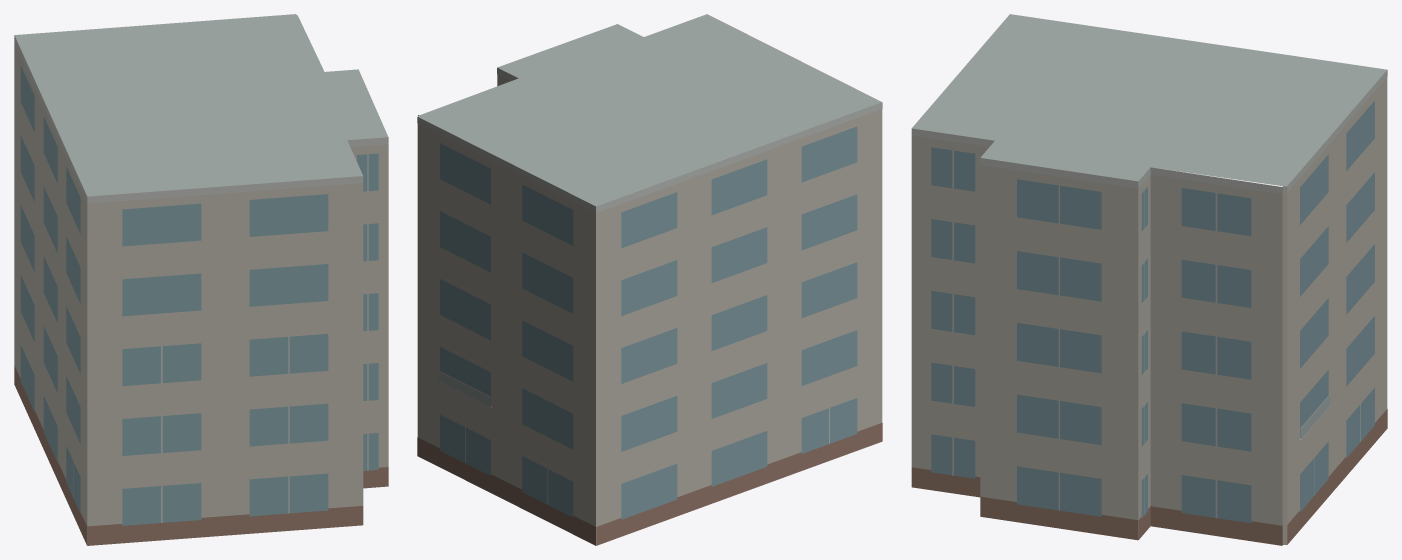
File: survey-upis-32921450.glb
3 views of the same model, side by side, from view 1: azimuth 30°, elevation 25°; view 2: azimuth 150°, elevation 25°; view 3: azimuth 270°, elevation 25° (orthographic). The views are drawn at different scales.
Parts seen in each view (by area): view 1: survey-upis-32921450.tmp; view 2: survey-upis-32921450.tmp; view 3: survey-upis-32921450.tmp.
Boxes of the visible parts, x1=… form: survey-upis-32921450.tmp: x1=14, y1=14, x2=388, y2=545; survey-upis-32921450.tmp: x1=417, y1=14, x2=882, y2=545; survey-upis-32921450.tmp: x1=911, y1=14, x2=1387, y2=545.
Size of the model in its own units: 12.72 by 12.29 by 14.78.
